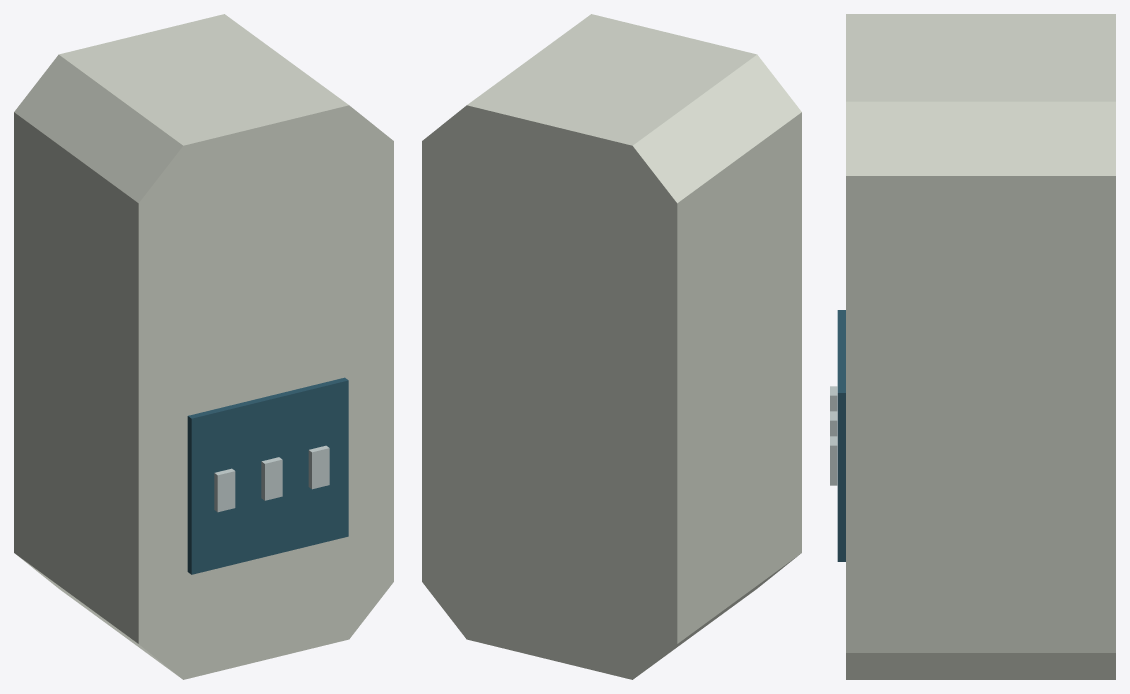
Rendered from City_ChargePost_Pedestal.glb.
3 views of the same model, side by side, from view 1: azimuth 30°, elevation 25°; view 2: azimuth 150°, elevation 25°; view 3: azimuth 270°, elevation 25° (orthographic). The views are drawn at different scales.
Visible parts, largest first — view 1: City_ChargePost_Pedestal; view 2: City_ChargePost_Pedestal; view 3: City_ChargePost_Pedestal.
Part boxes in pixels (x1,y1,x2,y2): City_ChargePost_Pedestal: [14, 14, 393, 679]; City_ChargePost_Pedestal: [422, 14, 801, 679]; City_ChargePost_Pedestal: [830, 14, 1115, 679].
Bounding box in the file's own units: 0.65 × 1.3 × 0.5825.
